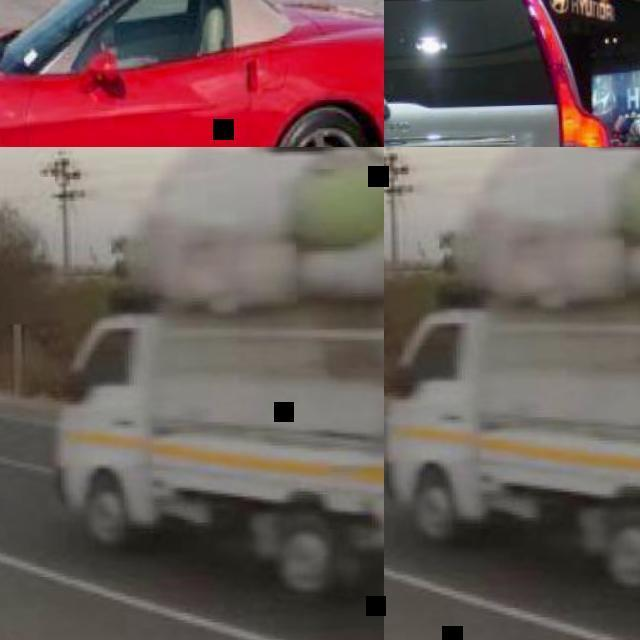car: (29, 0, 639, 586)
